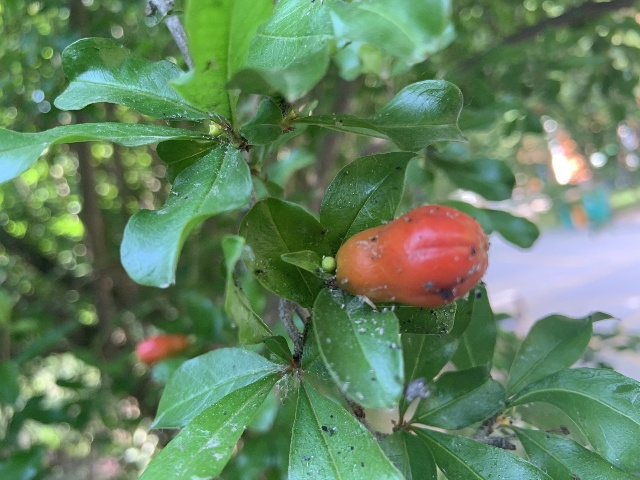bud: (334, 206, 488, 309), (135, 334, 189, 364)
